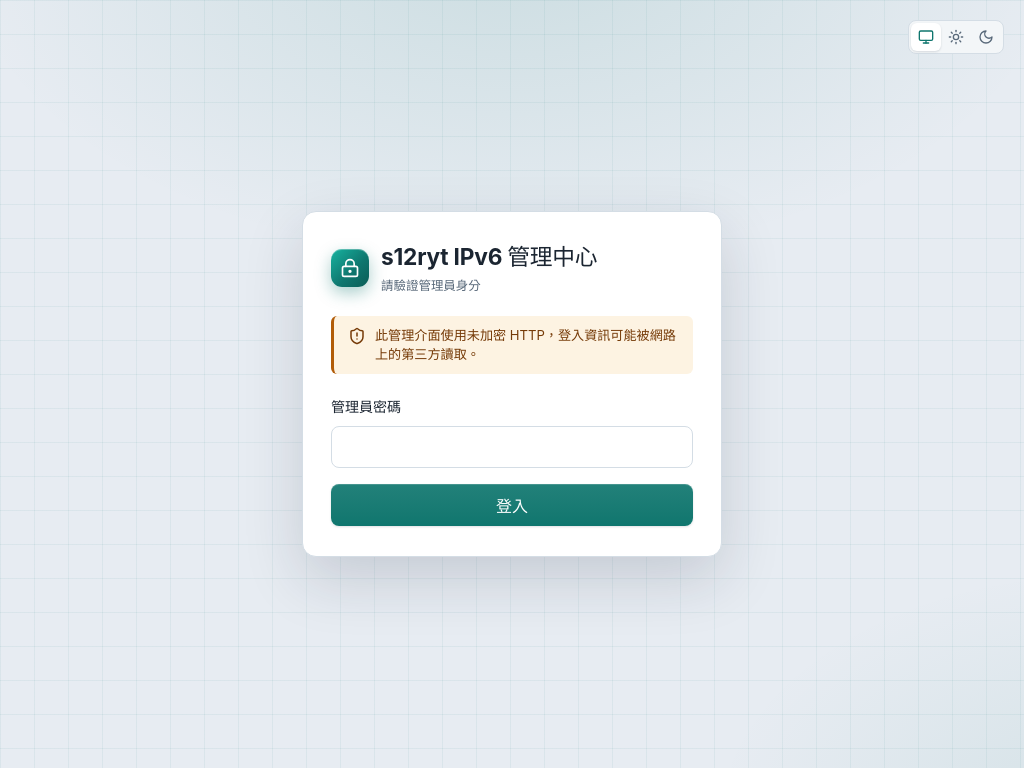
Test case: App › logs in, keeps CSRF in memory, loads the operator shell, and logs out
Type "correct horse battery staple" into the password field labelled "管理員密碼" at [512, 447], box [331,426,693,468]
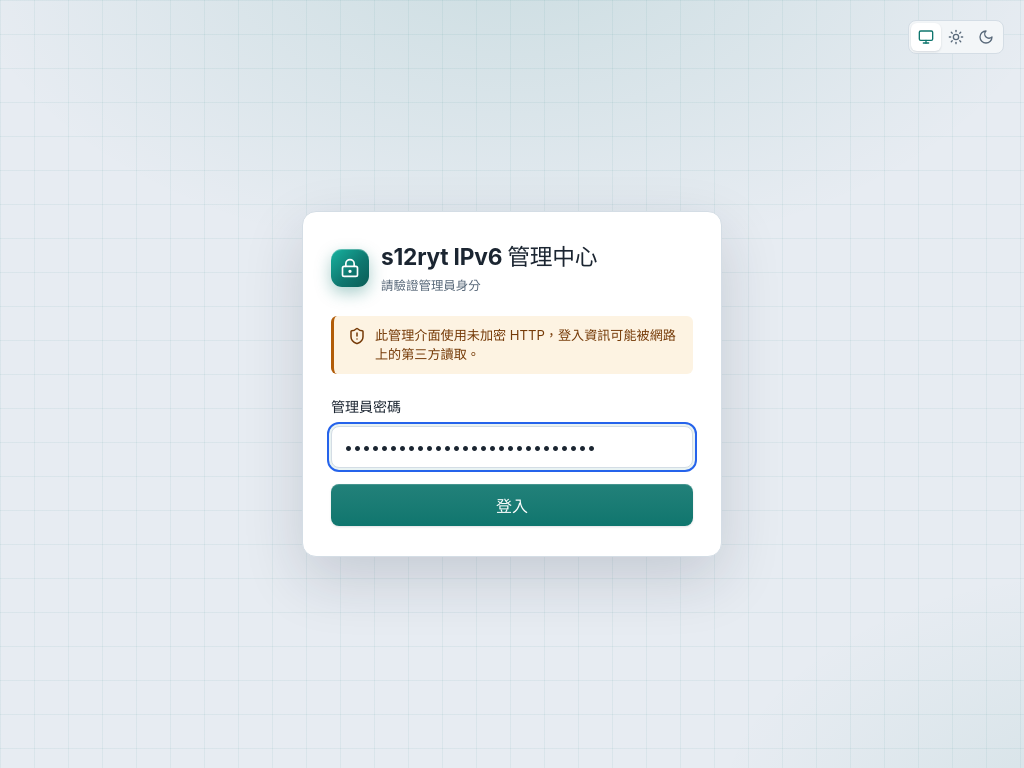
Click the button "登入" at [512, 505], box [331,484,693,526]
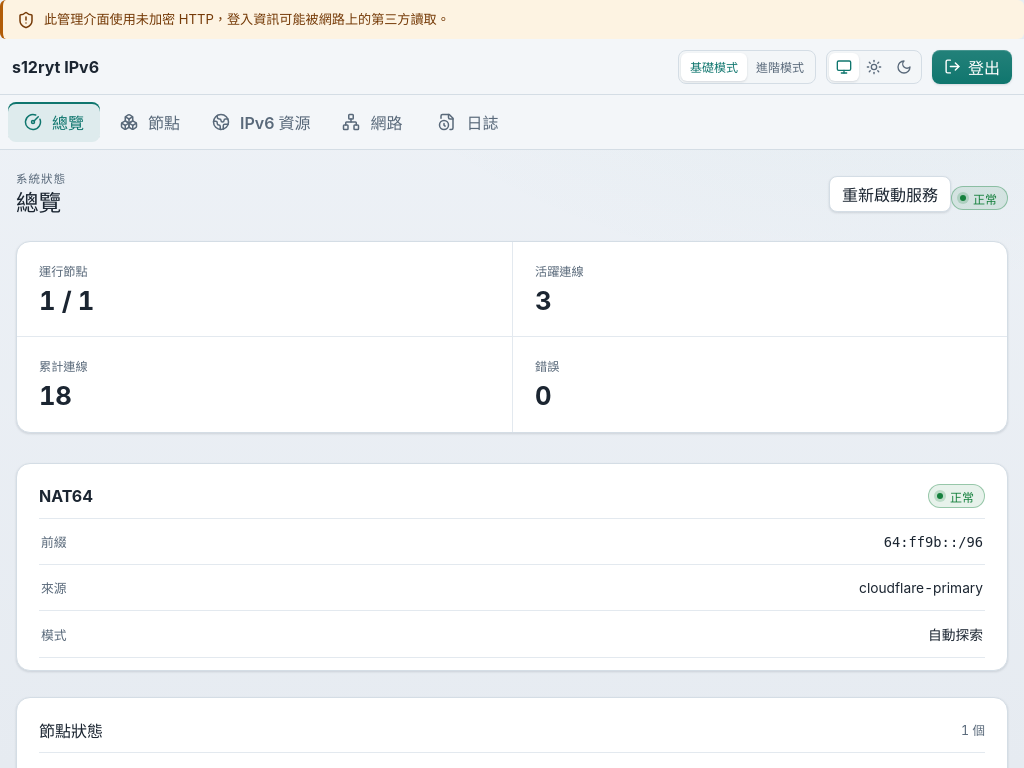
Now the heading "總覽" is shown, box [16,188,66,219]
Now the button "總覽" is shown, box [8,102,100,142]
Now the button "節點" is shown, box [104,102,196,142]
Click the button "登出" at [972, 66], box [932,50,1012,84]
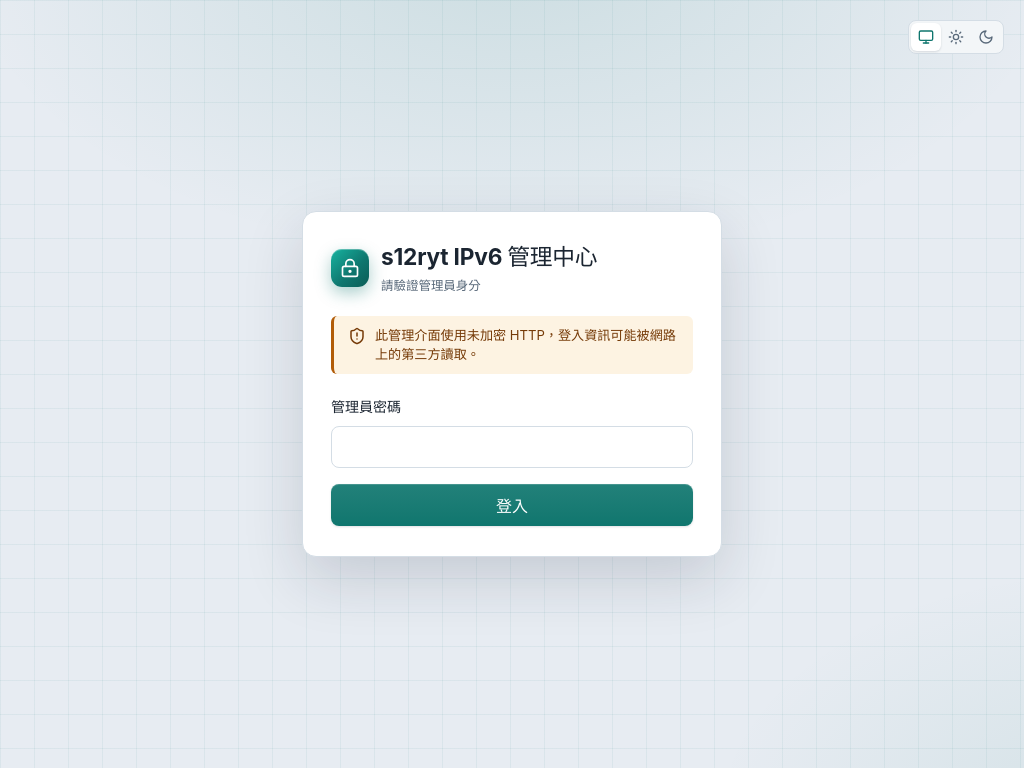
Now the password field labelled "管理員密碼" is shown, box [331,426,693,468]
